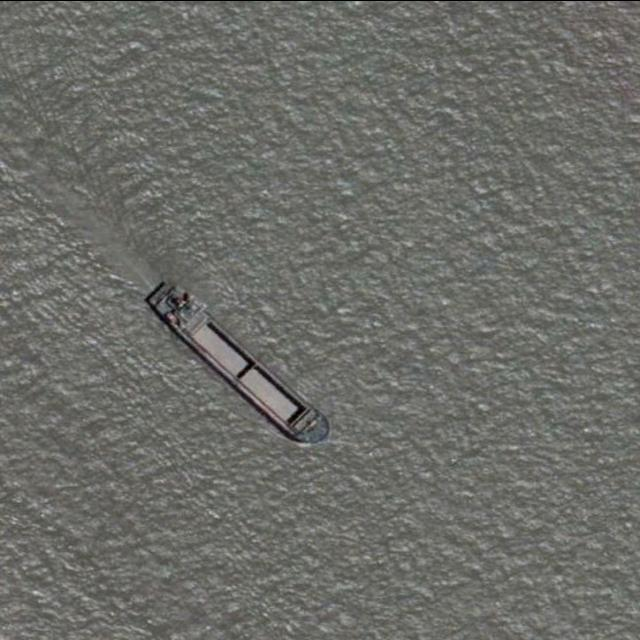ship: (138, 276, 329, 444)
